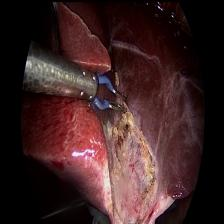Bipolar: (71, 64, 133, 119)
